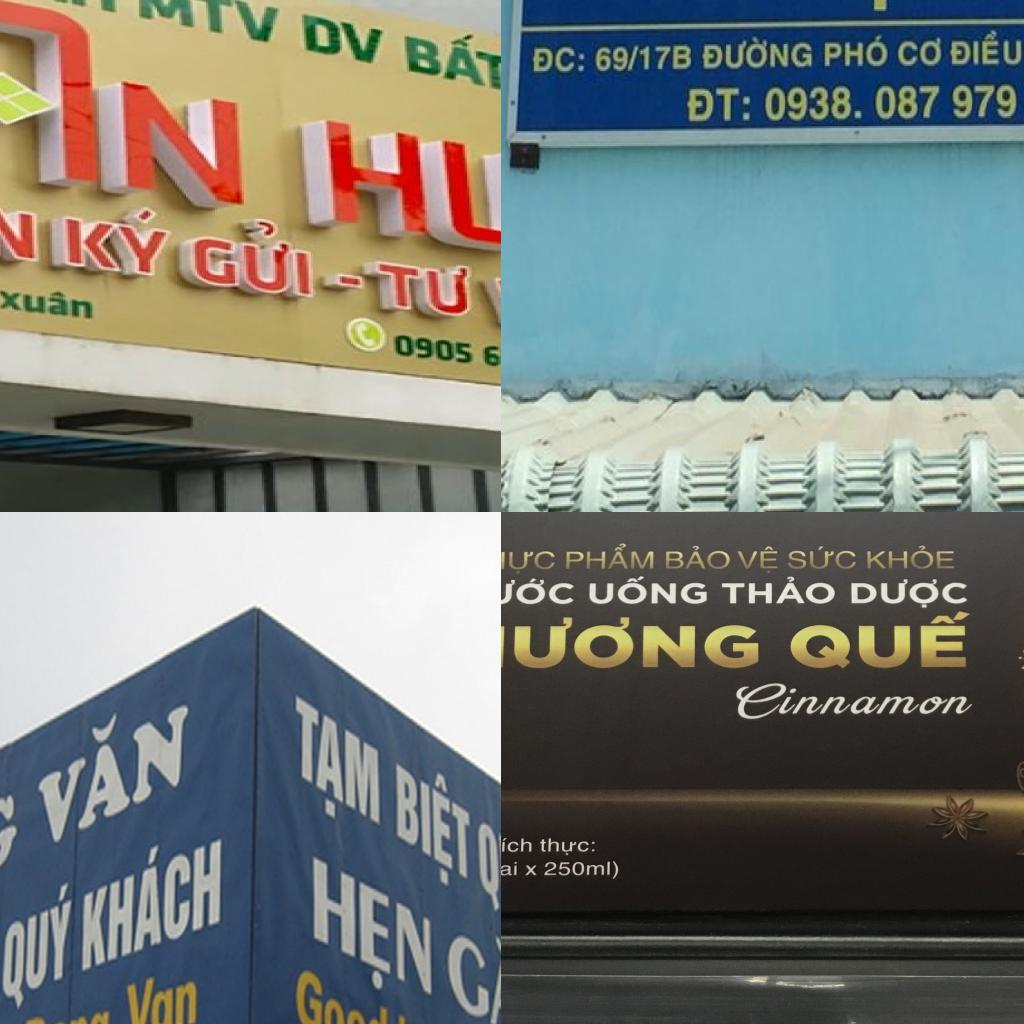text: (0, 0, 252, 218), (286, 102, 501, 274), (28, 676, 194, 854), (76, 815, 226, 980), (307, 848, 436, 1014), (164, 212, 371, 312), (290, 690, 385, 842), (501, 615, 763, 670), (392, 744, 474, 903), (762, 79, 1024, 128), (48, 194, 186, 287), (786, 610, 974, 672), (0, 873, 79, 1020), (731, 677, 975, 722), (371, 252, 481, 330), (400, 21, 501, 95), (130, 0, 288, 47), (386, 328, 501, 385), (442, 913, 501, 1024), (292, 960, 391, 1024), (293, 10, 389, 68), (119, 963, 201, 1024), (593, 31, 696, 79), (700, 31, 814, 74), (0, 178, 45, 281), (0, 280, 99, 325), (847, 576, 972, 610), (716, 574, 839, 608), (585, 575, 711, 606), (681, 78, 756, 128), (473, 809, 501, 936), (947, 26, 1024, 71), (822, 26, 890, 74), (560, 541, 658, 573), (863, 544, 959, 572), (501, 574, 579, 608), (528, 36, 586, 81), (20, 1001, 112, 1024), (892, 31, 947, 69), (663, 542, 732, 572), (784, 544, 859, 571), (501, 547, 560, 575), (734, 542, 782, 575), (537, 834, 598, 857), (501, 834, 536, 855), (501, 860, 520, 878), (523, 862, 540, 878)
